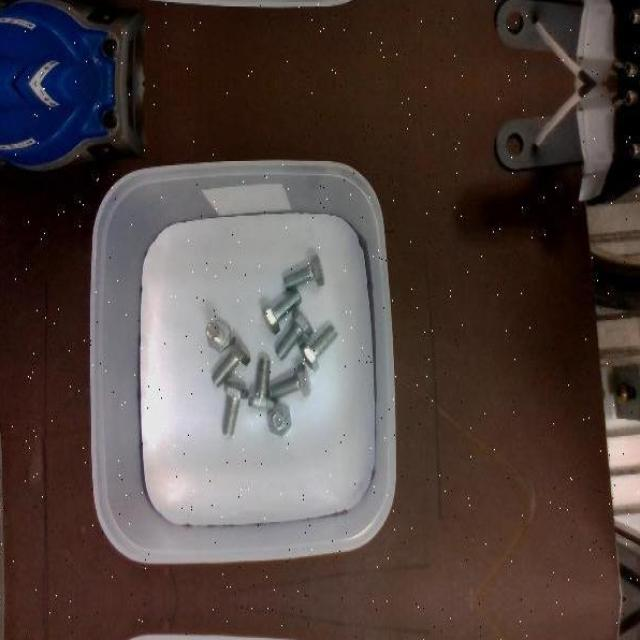screw: (276, 306, 315, 359), (212, 336, 251, 386), (299, 323, 338, 372), (262, 289, 303, 334), (284, 252, 326, 290), (270, 362, 312, 399), (222, 381, 249, 437), (249, 358, 275, 412), (267, 402, 292, 436), (206, 319, 231, 352)
